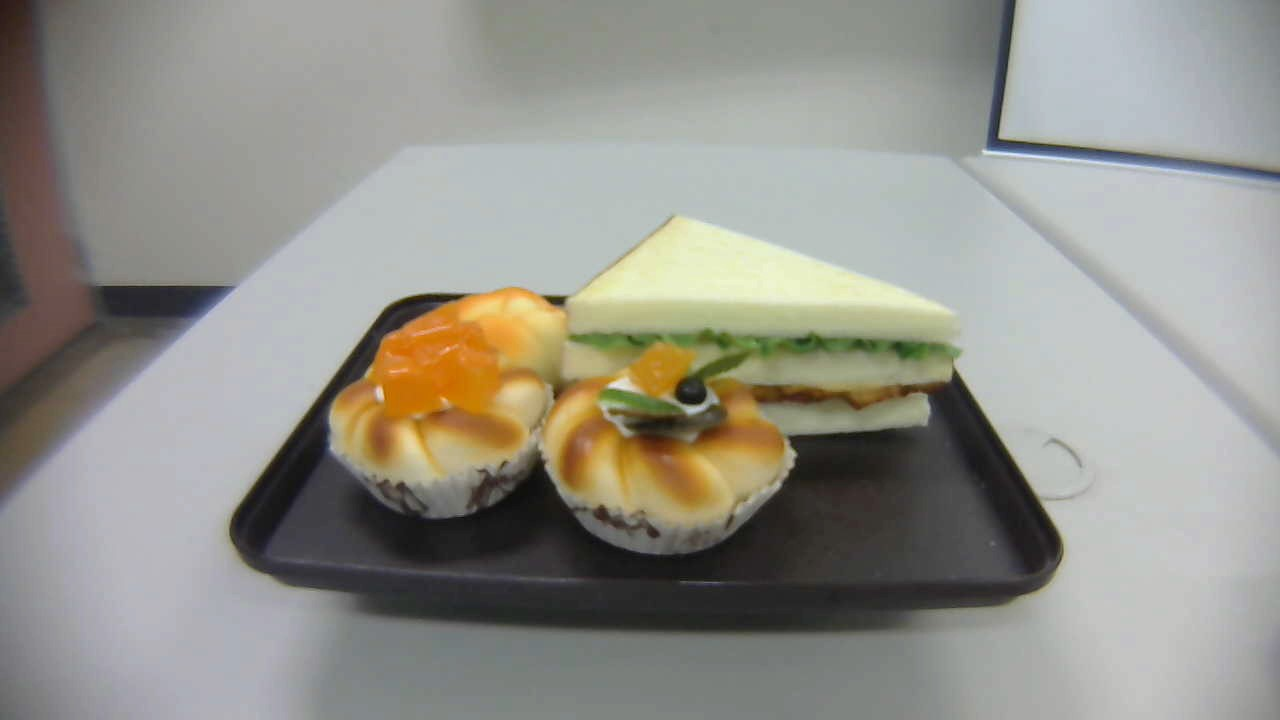fruit tart: (543, 345, 795, 556)
mango tart: (329, 322, 554, 520)
sandwich: (562, 213, 962, 430)
twist bread: (394, 287, 573, 398)
